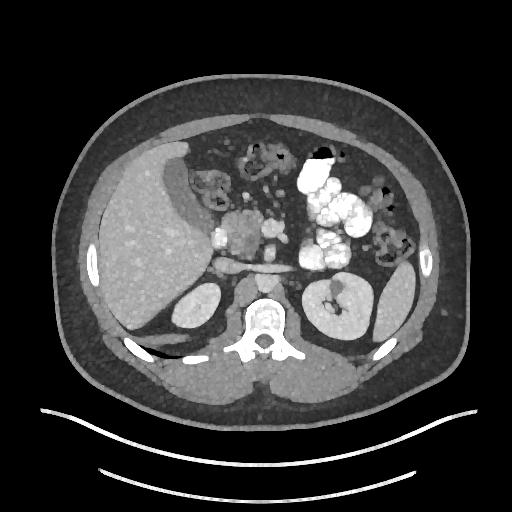Lesion: (324, 275, 348, 302)
